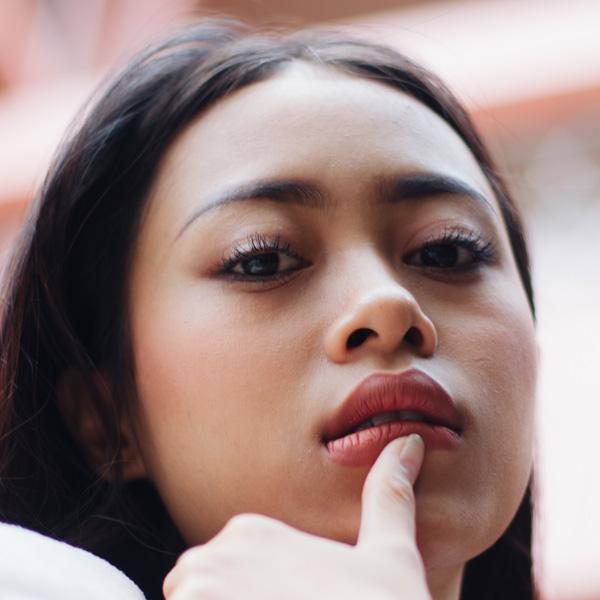Eyes: (199, 226, 323, 299), (394, 219, 498, 285)
